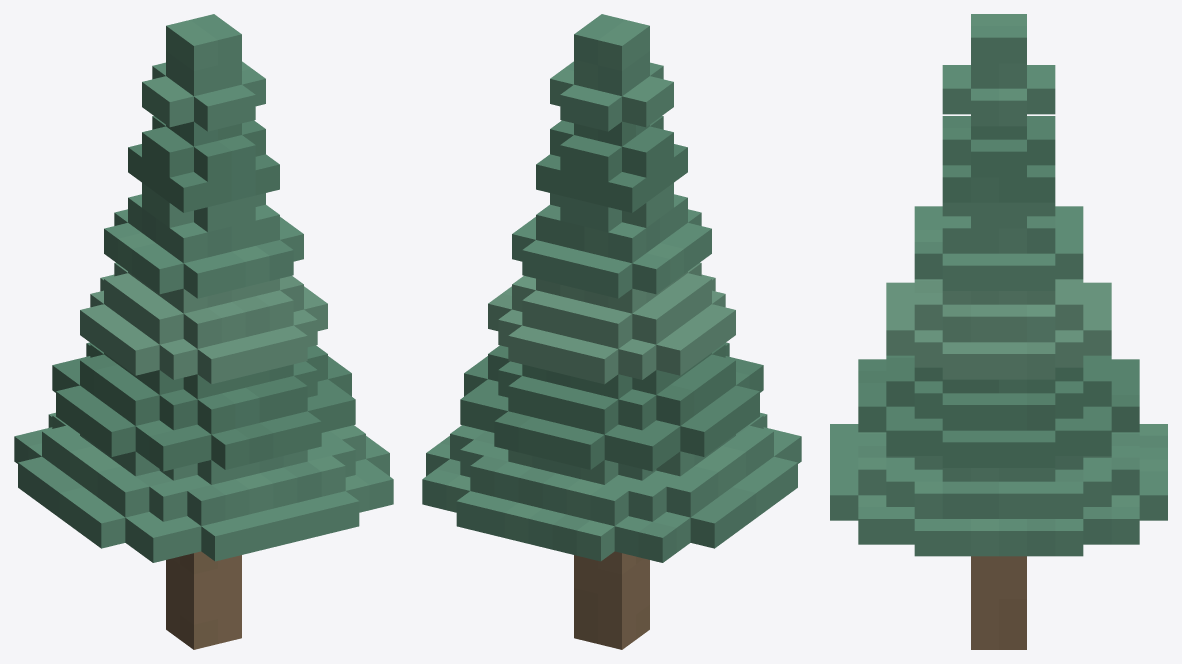
File: grand_pin_2.glb
3 renders of one model, left to right at view 1: azimuth 30°, elevation 25°; view 2: azimuth 150°, elevation 25°; view 3: azimuth 270°, elevation 25°, orthographic.
Parts seen in each view (by area): view 1: geometry_0; view 2: geometry_0; view 3: geometry_0.
Boxes of the visible parts, x1=… form: geometry_0: x1=14, y1=14, x2=393, y2=649; geometry_0: x1=422, y1=14, x2=801, y2=649; geometry_0: x1=830, y1=14, x2=1167, y2=649.
Bounding box in the file's own units: 3 × 6 × 3.
